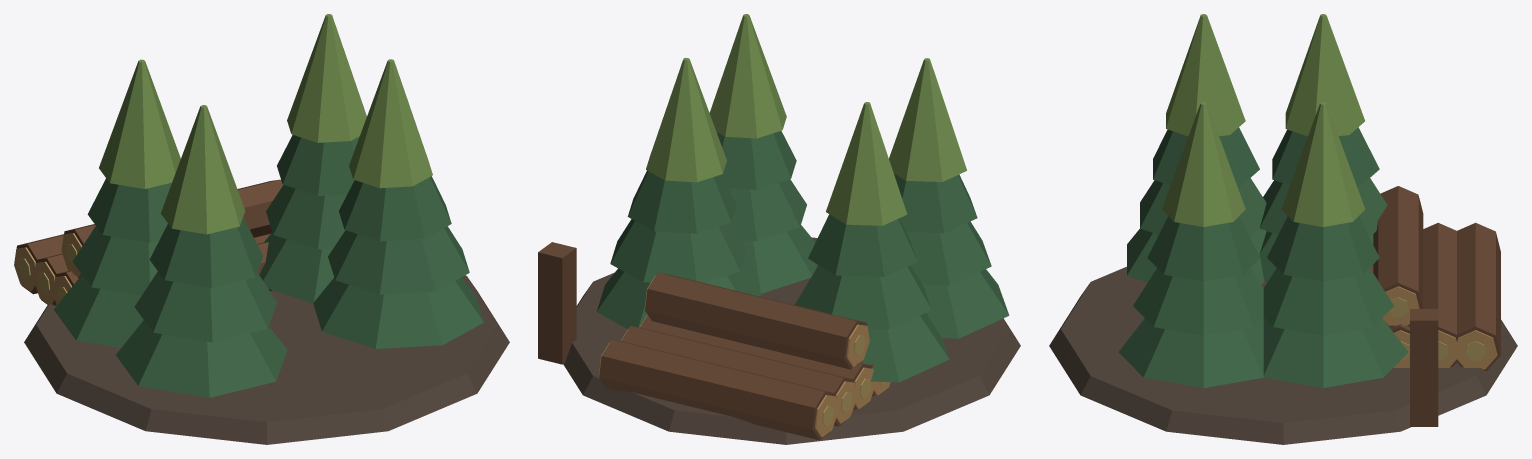
Rendered from Field_Wood_3.fbx.
3 renders of one model, left to right at view 1: azimuth 30°, elevation 25°; view 2: azimuth 150°, elevation 25°; view 3: azimuth 270°, elevation 25°, orthographic. The views are drawn at different scales.
Parts seen in each view (by area): view 1: Field_Wood_3; view 2: Field_Wood_3; view 3: Field_Wood_3.
Boxes of the visible parts, x1,y1,x2,y2 form: Field_Wood_3: (14, 14, 509, 444); Field_Wood_3: (538, 14, 1020, 444); Field_Wood_3: (1049, 14, 1517, 444).
Size of the model in its own units: 2 by 1.33 by 2.
1 material, 1 textured.
